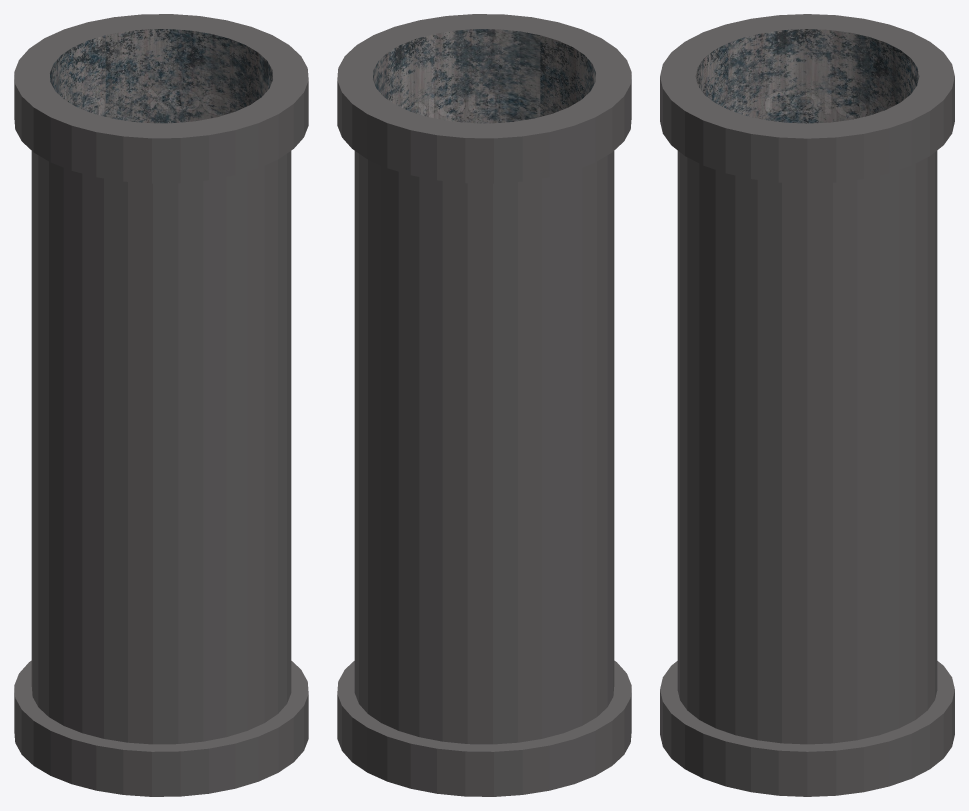
Rendered from pooppipe.fbx.
3 renders of one model, left to right at view 1: azimuth 30°, elevation 25°; view 2: azimuth 150°, elevation 25°; view 3: azimuth 270°, elevation 25°, orthographic.
Visible parts, largest first — view 1: Cylinder; view 2: Cylinder; view 3: Cylinder.
Boxes of the visible parts, box(x1,y1,x2,y2) form: Cylinder: box(14, 14, 308, 796); Cylinder: box(337, 14, 631, 796); Cylinder: box(660, 14, 954, 796).
Bounding box in the file's own units: 2.27 × 5.59 × 2.27.
Materials: 1 (1 with a texture image).
